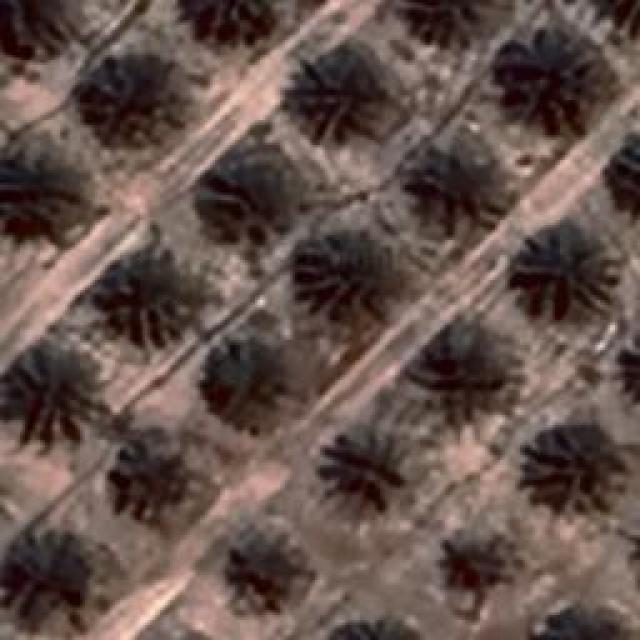PalmTree: (0, 342, 105, 446), (282, 50, 388, 148), (512, 225, 620, 318), (86, 248, 192, 342), (424, 321, 514, 429), (0, 522, 92, 622), (520, 430, 630, 512), (86, 54, 190, 138), (0, 138, 80, 236), (198, 335, 286, 423), (115, 441, 203, 521), (322, 424, 406, 506), (514, 49, 598, 129), (426, 144, 504, 228), (281, 242, 379, 308), (0, 0, 89, 70), (212, 158, 290, 232), (232, 534, 306, 612), (436, 529, 514, 599), (188, 0, 286, 50), (401, 0, 499, 50), (537, 595, 635, 640), (600, 121, 640, 221), (322, 606, 421, 640), (610, 320, 640, 418), (583, 0, 640, 40)
